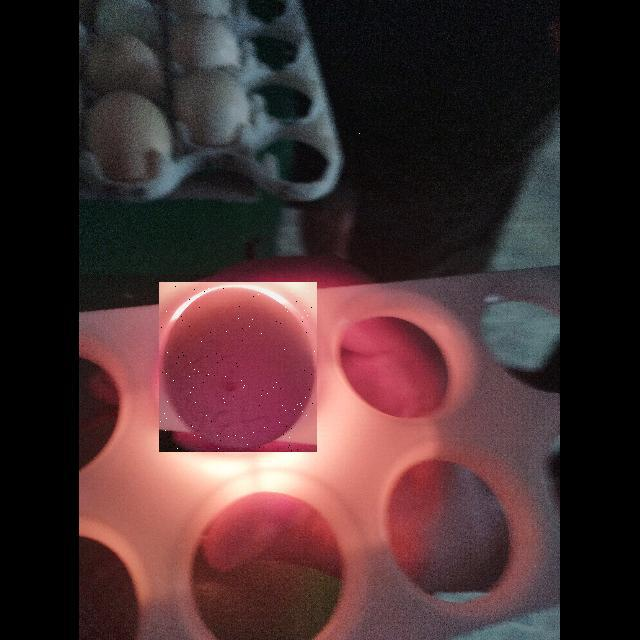Fertile: (159, 282, 317, 452)
